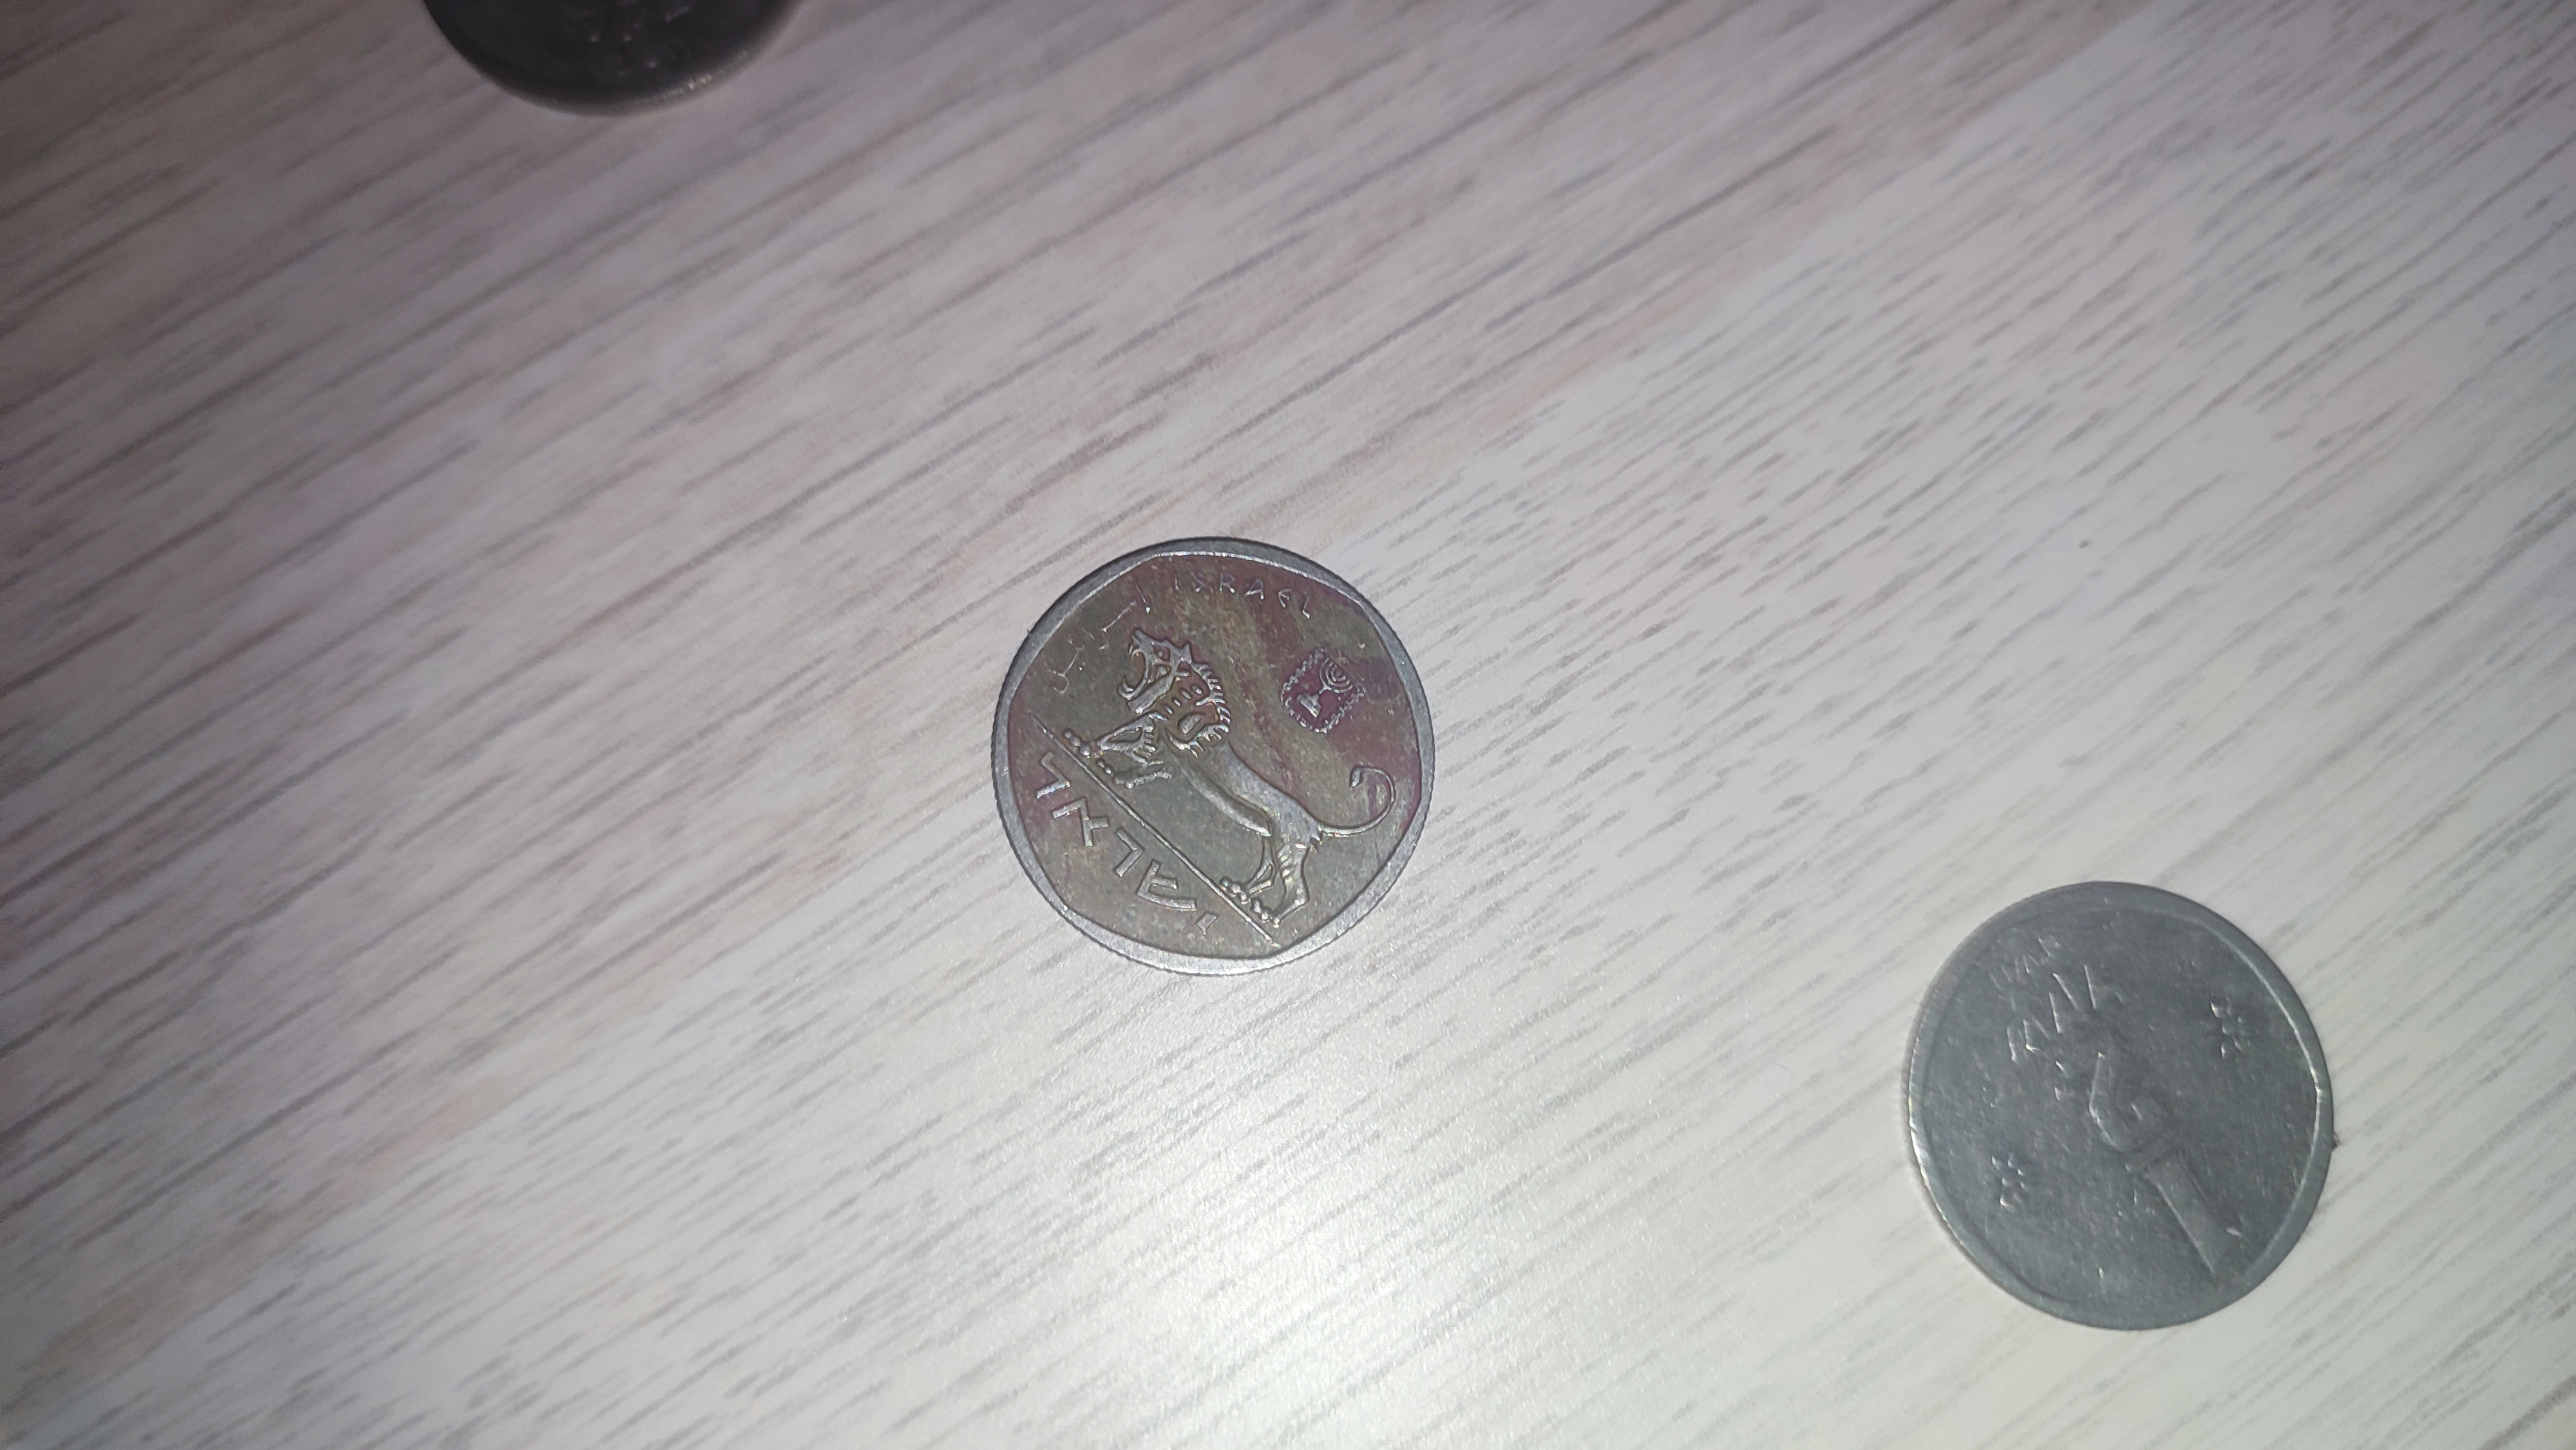1/2 old sheqel: (985, 520, 1454, 988), (1893, 874, 2346, 1344)
